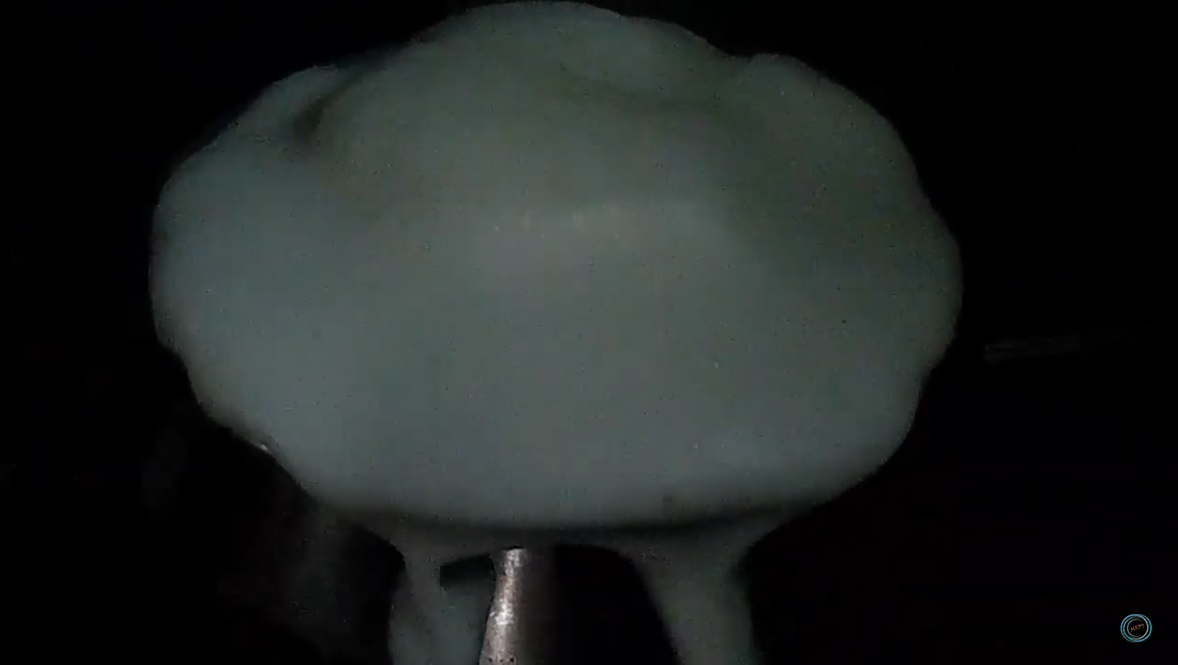Boiled: (129, 3, 978, 561)
